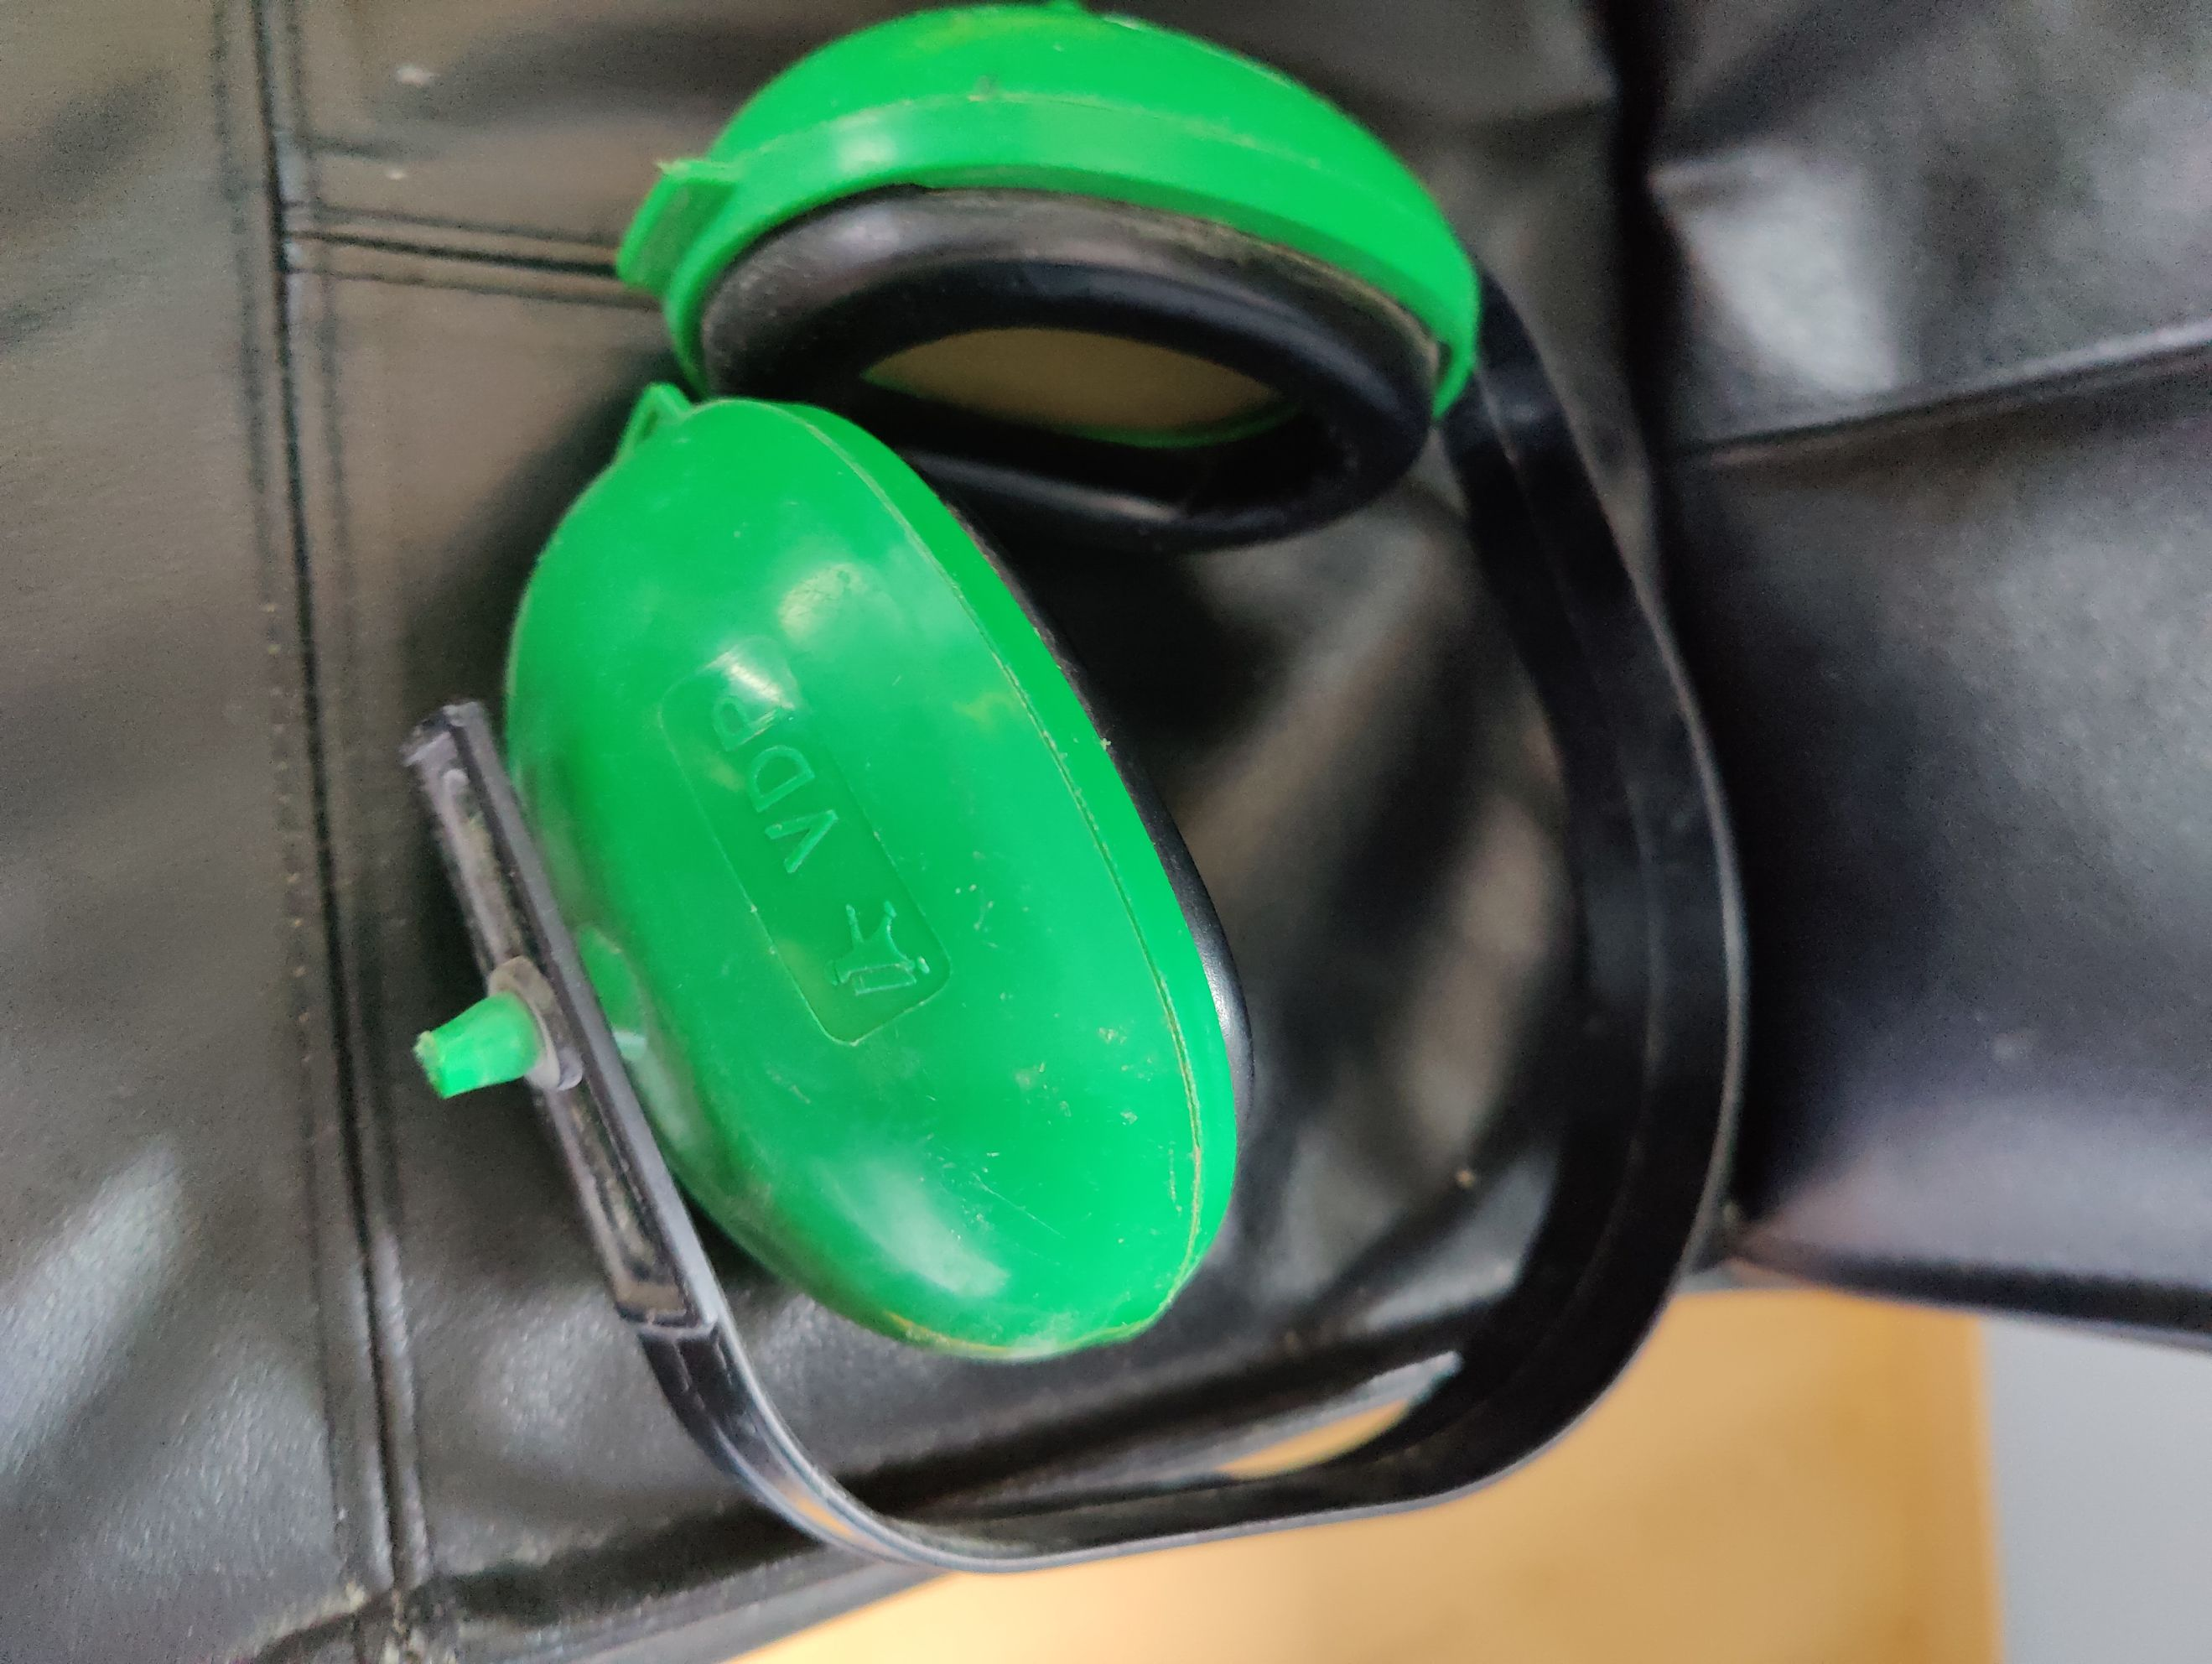headphones: (404, 24, 1756, 1566)
